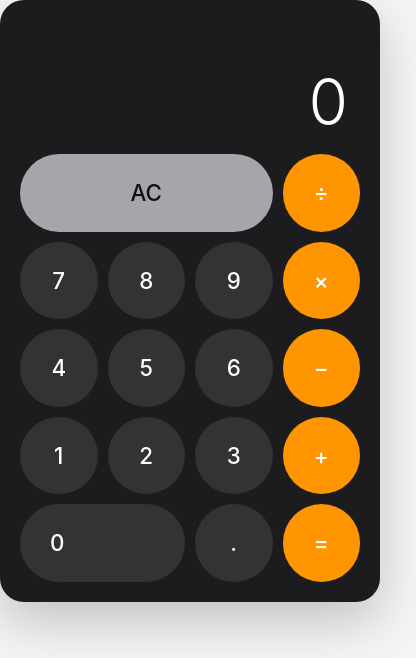
Calculator › clears the calculator when AC is pressed
Click the button "7" at (59, 280), box [20,242,98,319]
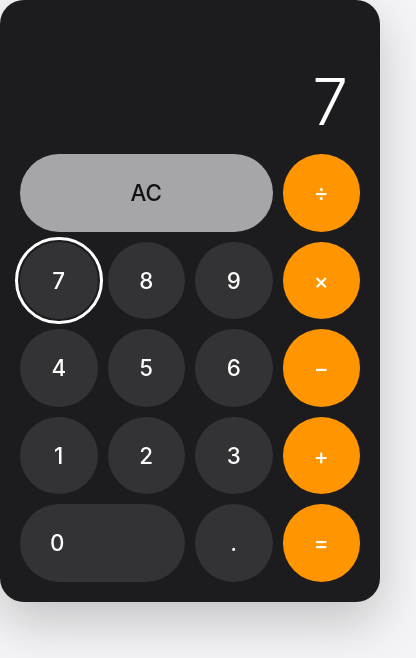
Click the button "5" at (146, 368), box [108,329,185,406]
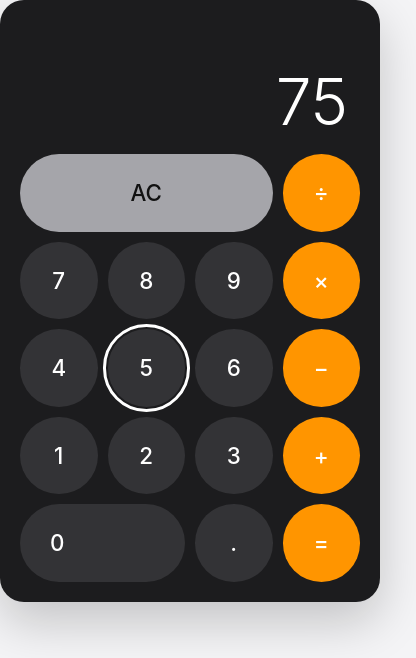
Check: the text named "Calculator display" reads "75", box [276,63,348,140]
Click the button "AC" at (146, 193), box [20,154,272,232]
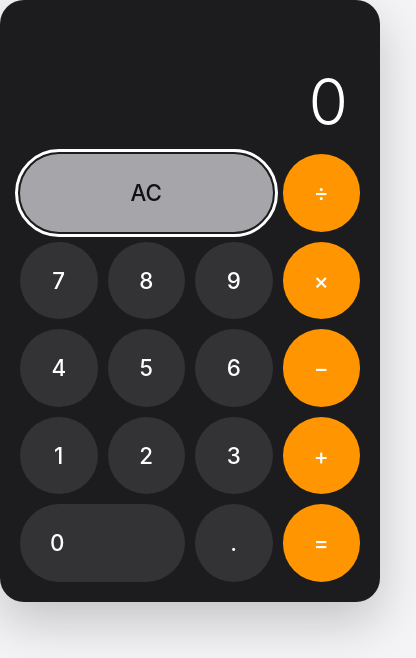
Check: the text named "Calculator display" reads "0", box [308,63,348,140]
